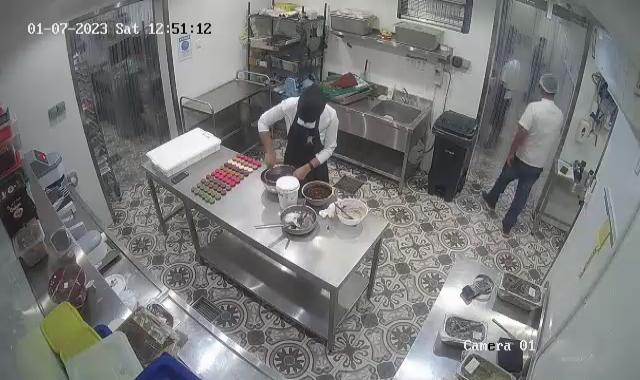hairnet: (538, 72, 560, 98)
no_hairnet: (298, 80, 330, 124)
